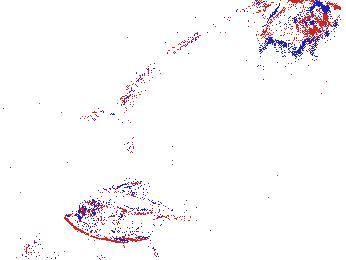X-ray fish: (64, 184, 194, 243), (243, 1, 342, 61)
glassfish: (79, 1, 289, 128)
